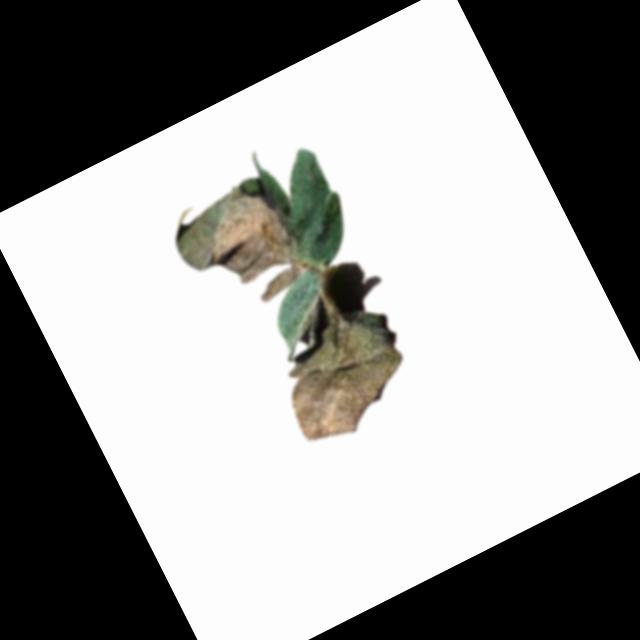Late_blight: (162, 166, 326, 328), (264, 299, 428, 455)
